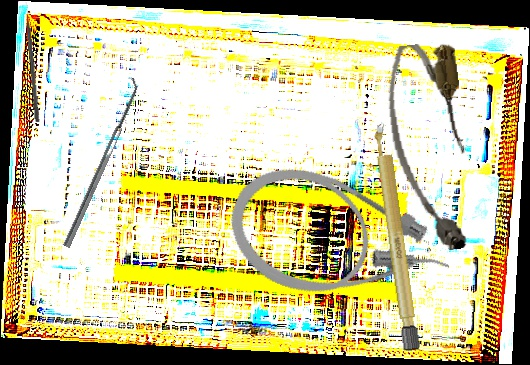Cannula: (214, 148, 464, 339), (381, 39, 479, 256)
Pusher: (24, 1, 41, 123)
Scalpel Handle: (371, 120, 422, 352)
Spatula Surgical: (56, 76, 144, 249)
